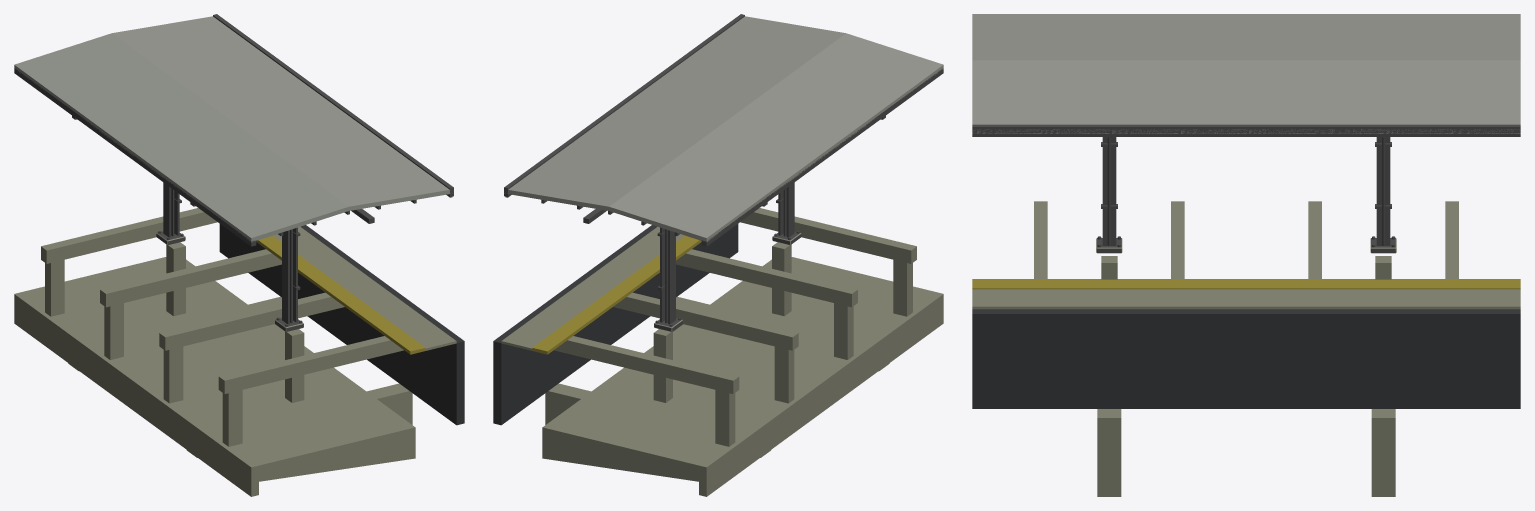
The model's file is platform_close.fbx.
3 views of the same model, side by side, from view 1: azimuth 30°, elevation 25°; view 2: azimuth 150°, elevation 25°; view 3: azimuth 270°, elevation 25° (orthographic). The views are drawn at different scales.
Parts seen in each view (by area): view 1: p472/platform_close; view 2: p472/platform_close; view 3: p472/platform_close.
Part boxes in pixels (x1=…): p472/platform_close: x1=14, y1=14, x2=464, y2=496; p472/platform_close: x1=493, y1=14, x2=943, y2=496; p472/platform_close: x1=972, y1=14, x2=1520, y2=496.
Bounding box in the file's own units: 4.2 × 5.96 × 8.
